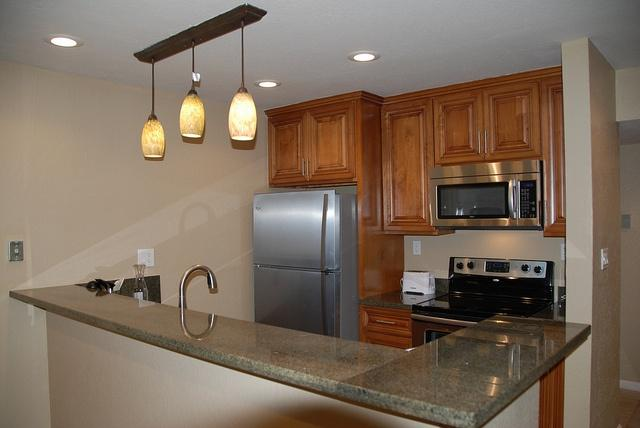Lemari: (379, 96, 438, 234), (266, 99, 357, 186)
